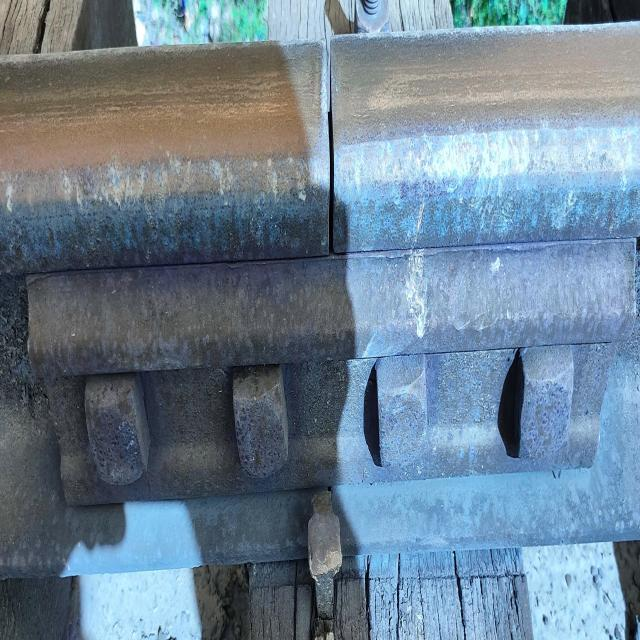Good Joint: (26, 240, 636, 505)
